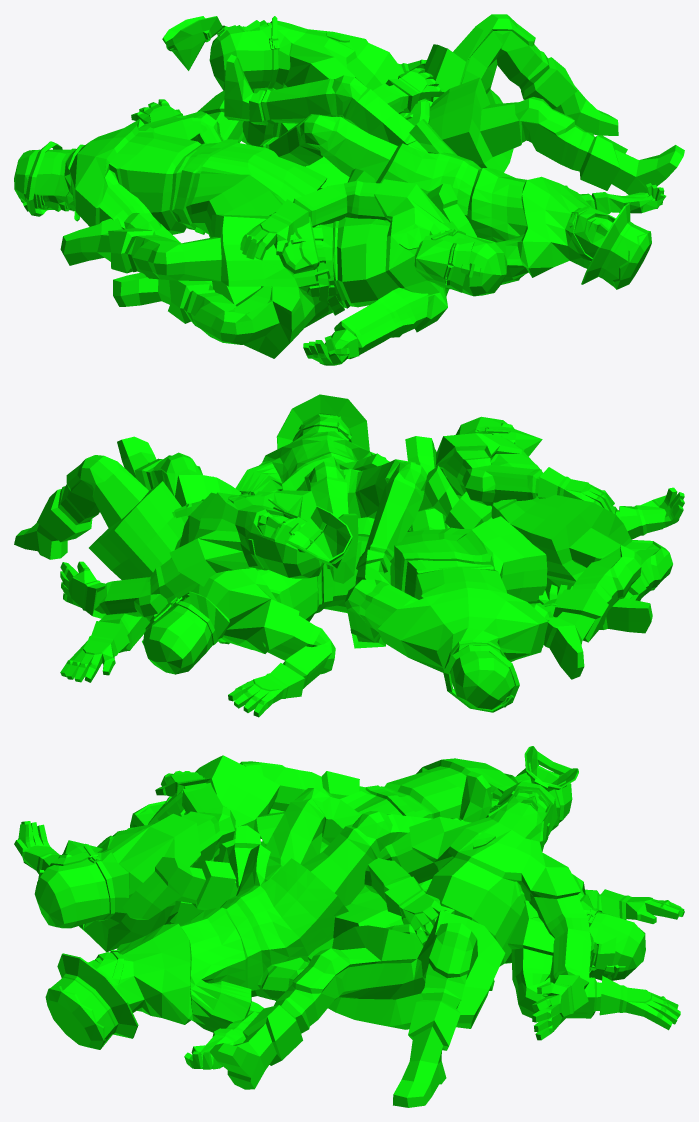
Rendered from SM_Corpse_Pile_Human_Soldier_A_Fantasy.fbx.
3 renders of one model, top to bottom at view 1: azimuth 30°, elevation 25°; view 2: azimuth 150°, elevation 25°; view 3: azimuth 270°, elevation 25°, orthographic. The views are drawn at different scales.
Parts seen in each view (by area): view 1: corpse-pile-human-soldier-a-medieval; view 2: corpse-pile-human-soldier-a-medieval; view 3: corpse-pile-human-soldier-a-medieval.
Part boxes in pixels (<box>): corpse-pile-human-soldier-a-medieval: <box>14,14,684,365</box>; corpse-pile-human-soldier-a-medieval: <box>14,394,684,717</box>; corpse-pile-human-soldier-a-medieval: <box>14,746,684,1107</box>.
Size of the model in its own units: 2.37 by 0.7607 by 2.26.
